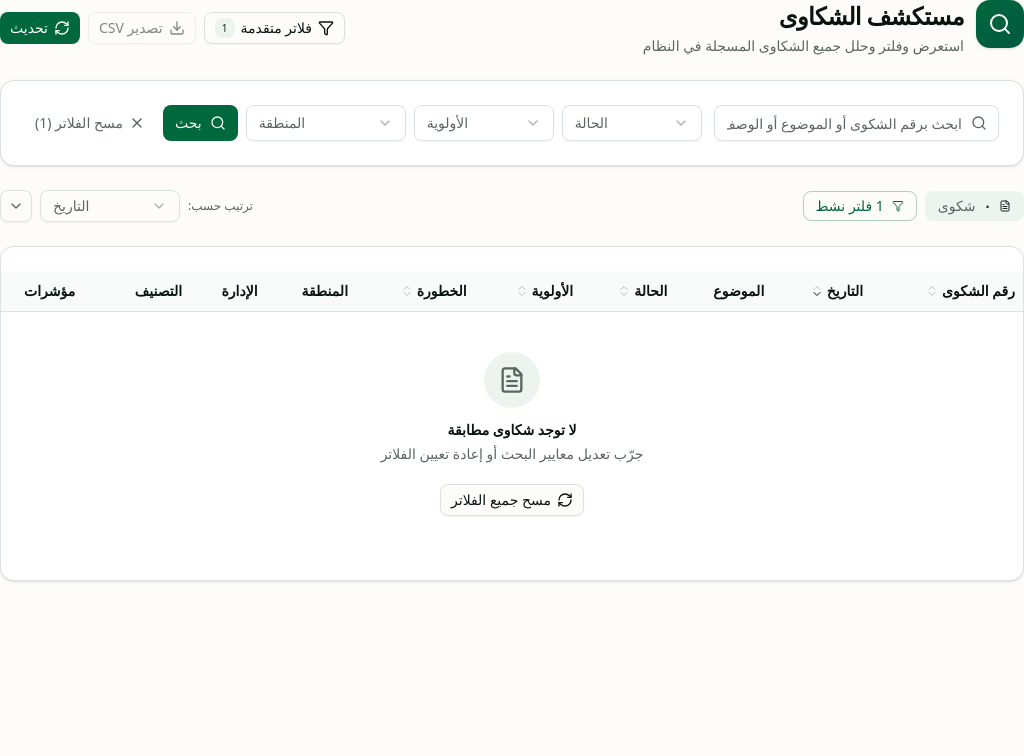
Scenario: complaints explorer dataFreshnessBucket UI › shows dataFreshnessBucket from URL in advanced filters
Click the button "فلاتر متقدمة 1".
click(274, 28)  # box [204,12,345,44]
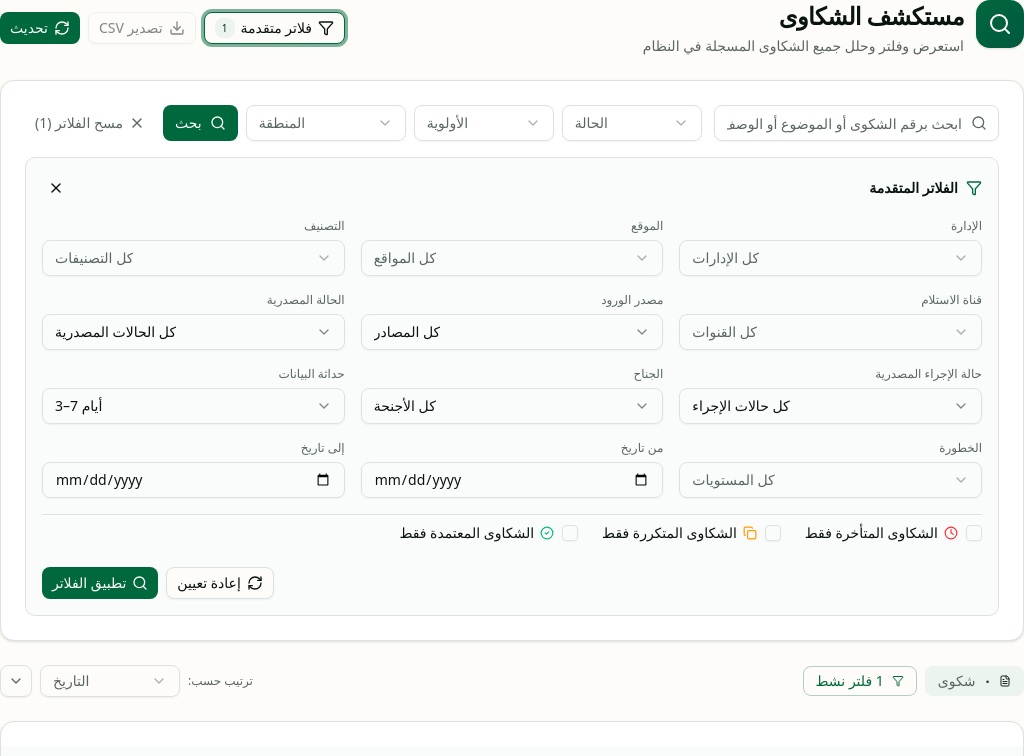
Expected: the text "حداثة البيانات" is shown, [278,365,345,382]
Expected: the dropdown labelled "3–7 أيام" is shown, [42,388,345,424]
